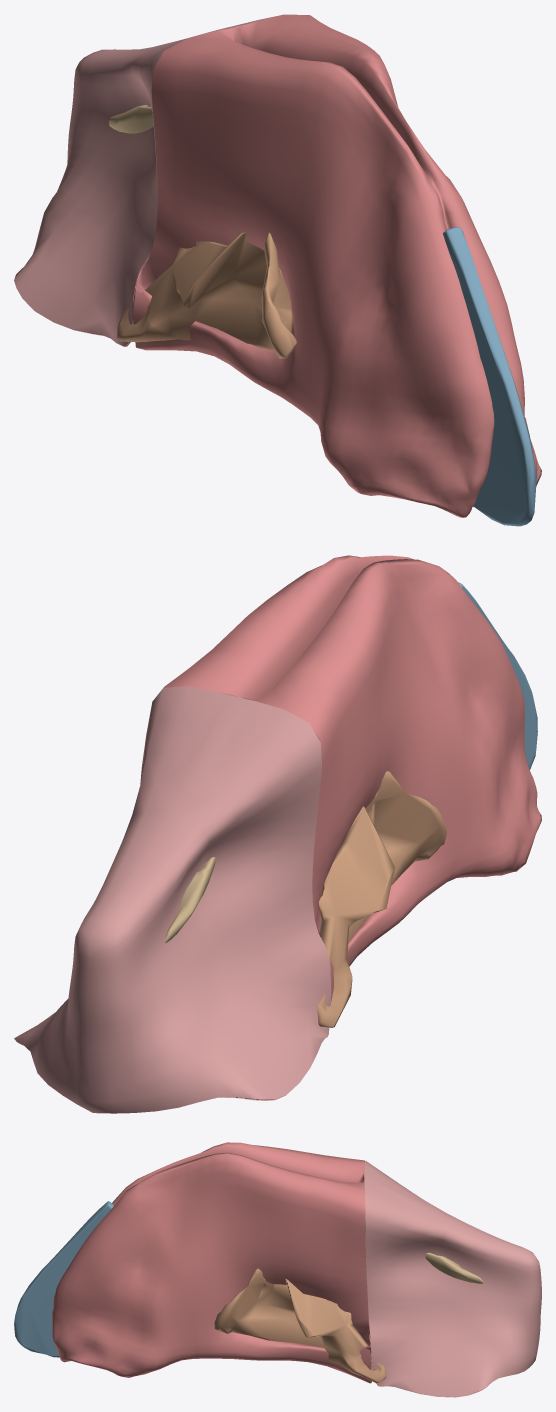
File: nasal-cavity.glb
3 renders of one model, top to bottom at view 1: azimuth 30°, elevation 25°; view 2: azimuth 150°, elevation 25°; view 3: azimuth 270°, elevation 25°, orthographic. The views are drawn at different scales.
Parts seen in each view (by area): view 1: nasal-cavity, nasopharynx, inferior-conchae, septal-cartilage, vomer; view 2: nasopharynx, nasal-cavity, inferior-conchae, septal-cartilage, vomer; view 3: nasal-cavity, nasopharynx, inferior-conchae, septal-cartilage, vomer.
Boxes of the visible parts, x1,y1,x2,y2 form: nasal-cavity: (132, 14, 541, 517); nasopharynx: (14, 14, 309, 346); inferior-conchae: (116, 232, 296, 358); septal-cartilage: (443, 227, 536, 526); vomer: (109, 105, 153, 133); nasopharynx: (14, 686, 331, 1113); nasal-cavity: (160, 555, 541, 1003); inferior-conchae: (317, 771, 447, 1027); septal-cartilage: (458, 582, 537, 769); vomer: (164, 857, 215, 943); nasal-cavity: (52, 1142, 371, 1383); nasopharynx: (364, 1161, 541, 1397); inferior-conchae: (214, 1268, 386, 1383); septal-cartilage: (14, 1201, 113, 1357); vomer: (425, 1252, 483, 1283).
Bounding box in the file's own units: 0.14 × 0.1916 × 0.4243.
